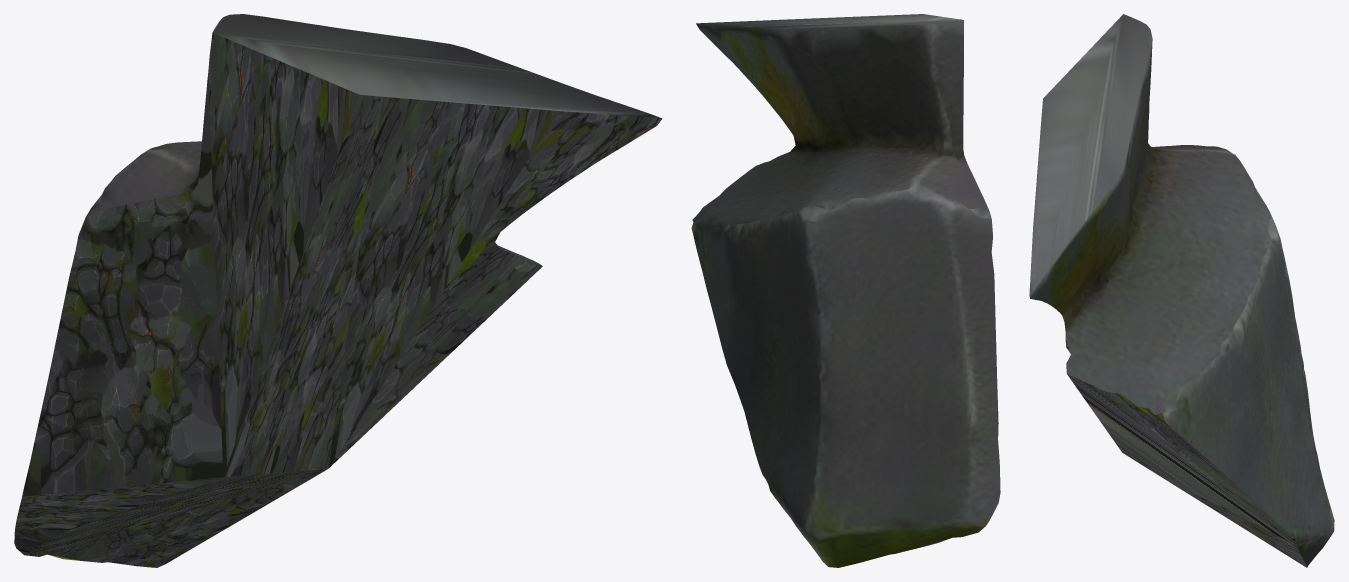
Rendered from Frag_28.gltf.
3 views of the same model, side by side, from view 1: azimuth 30°, elevation 25°; view 2: azimuth 150°, elevation 25°; view 3: azimuth 270°, elevation 25° (orthographic). The views are drawn at different scales.
Visible parts, largest first — view 1: Frag_28; view 2: Frag_28; view 3: Frag_28.
Boxes of the visible parts, <box> form: Frag_28: <box>14,14,662,567</box>; Frag_28: <box>691,14,1000,567</box>; Frag_28: <box>1029,14,1334,567</box>.
Bounding box in the file's own units: 0.3643 × 0.423 × 0.2214.
Materials: 1 (1 with a texture image).
